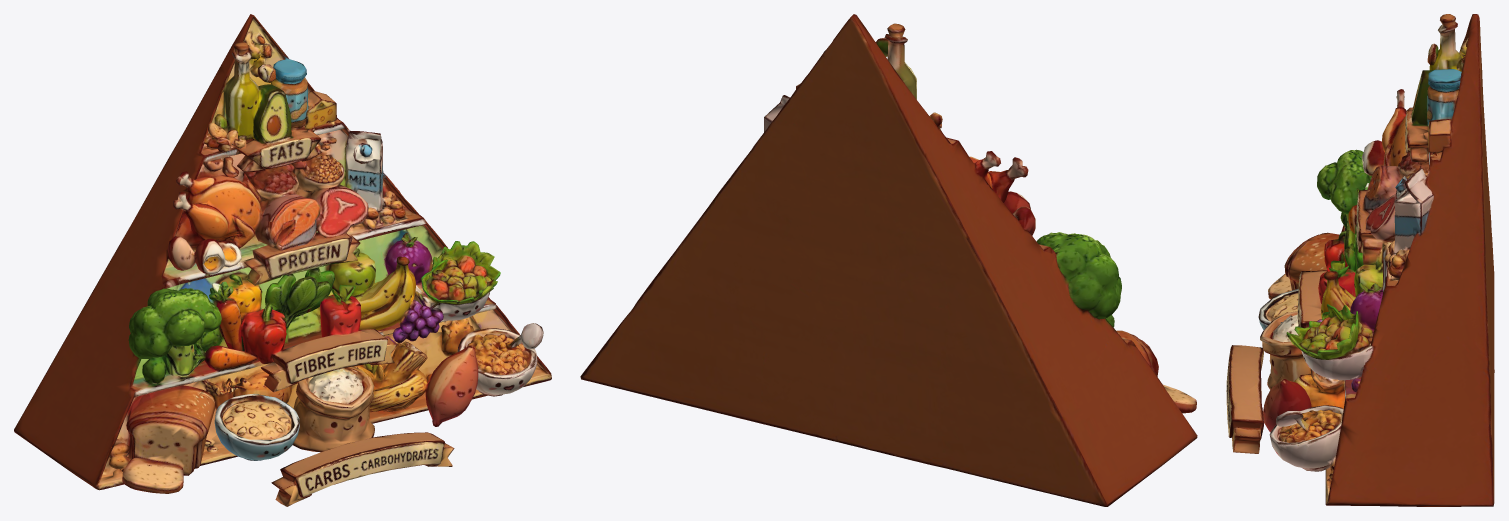
File: food-pyramid.glb
The picture shows the model from 3 angles, left to right: view 1: azimuth 30°, elevation 25°; view 2: azimuth 150°, elevation 25°; view 3: azimuth 270°, elevation 25°; orthographic projection. The views are drawn at different scales.
Parts seen in each view (by area): view 1: tripo_node_61d7b283-a562-48f3-ae4a-82284a5aa59f; view 2: tripo_node_61d7b283-a562-48f3-ae4a-82284a5aa59f; view 3: tripo_node_61d7b283-a562-48f3-ae4a-82284a5aa59f.
Part boxes in pixels (x1,y1,x2,y2): tripo_node_61d7b283-a562-48f3-ae4a-82284a5aa59f: (14, 14, 551, 506); tripo_node_61d7b283-a562-48f3-ae4a-82284a5aa59f: (580, 14, 1197, 506); tripo_node_61d7b283-a562-48f3-ae4a-82284a5aa59f: (1226, 14, 1494, 506).
Bounding box in the file's own units: 0.9982 × 0.8051 × 0.49.
Materials: 1 (1 with a texture image).
